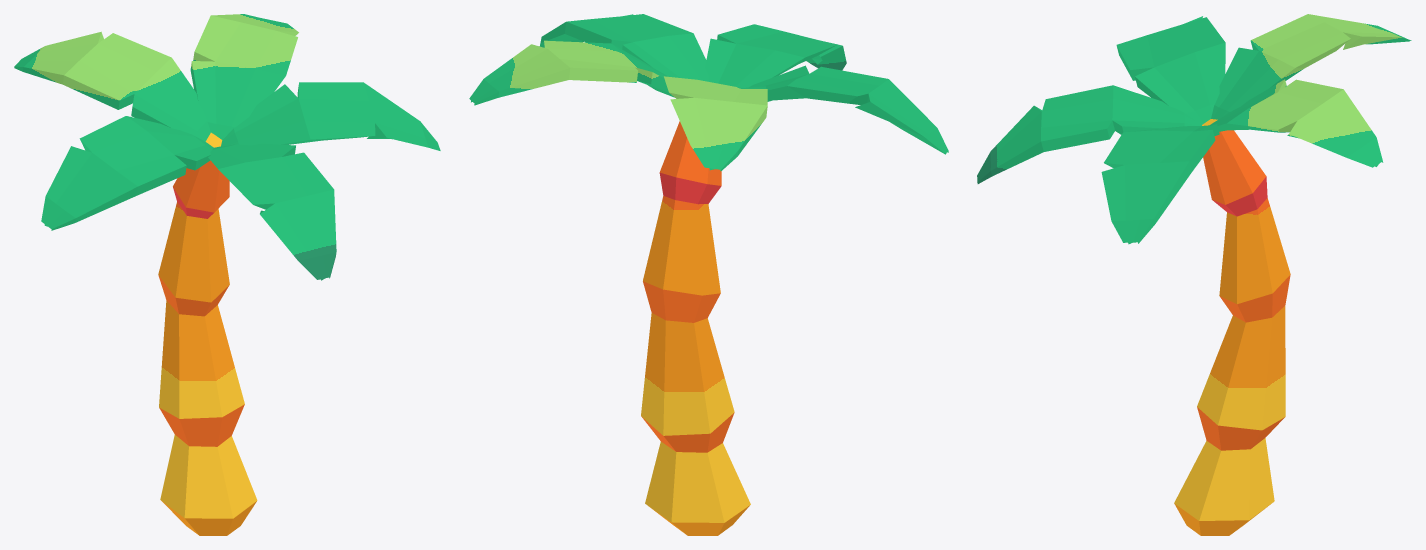
The model's file is Palm_Tree.glb.
The picture shows the model from 3 angles, left to right: view 1: azimuth 30°, elevation 25°; view 2: azimuth 150°, elevation 25°; view 3: azimuth 270°, elevation 25°; orthographic projection. The views are drawn at different scales.
Parts seen in each view (by area): view 1: Cube, Cylinder; view 2: Cube, Cylinder; view 3: Cube, Cylinder.
Part boxes in pixels (left/top/right/bottom): Cube: left=14, top=14, right=440, bottom=280; Cylinder: left=158, top=132, right=257, bottom=535; Cube: left=469, top=14, right=948, bottom=171; Cylinder: left=641, top=121, right=750, bottom=535; Cube: left=977, top=14, right=1411, bottom=244; Cylinder: left=1174, top=119, right=1290, bottom=535.
Bounding box in the file's own units: 11.24 × 12.68 × 10.64.
Materials: 1 (1 with a texture image).
